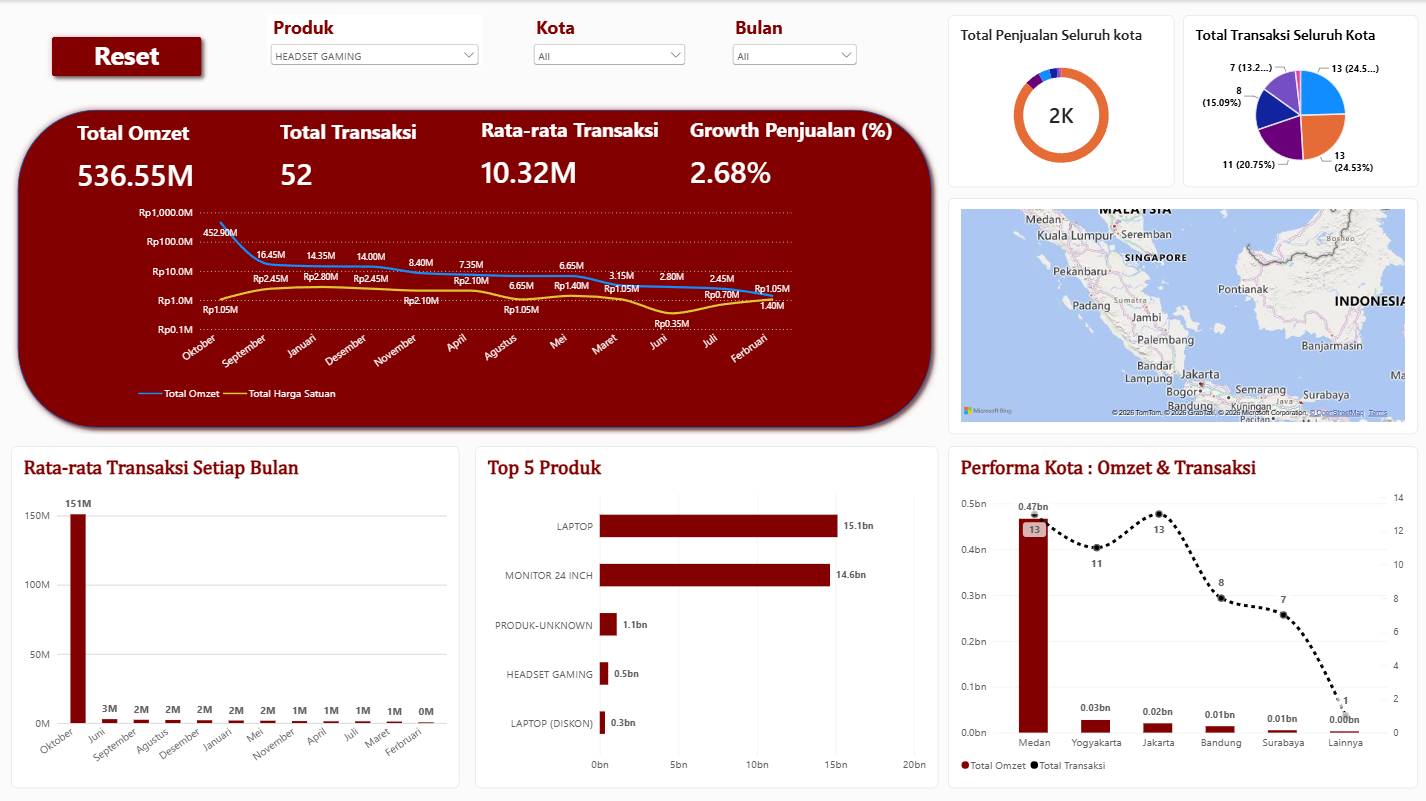

The page's visual inventory and layout, read from the dashboard file:
{"tool":"powerbi","page":{"name":"Duplicate of Duplicate of Page 1","canvas":[1920,1080],"ordinal":0},"visuals":[{"type":"shape","box":[14.6,138.6,1248.9,446.4],"z":0},{"type":"cardVisual","fields":{"Data":["public produksi.Total Omzet"]},"box":[87.5,135.7,300,150],"z":1000},{"type":"lineChart","fields":{"Category":["public produksi.Bulan"],"Y":["public produksi.Total Omzet","public produksi.Total Harga Satuan"]},"box":[170.7,261.2,911.9,299.1],"z":2000},{"type":"slicer","fields":{"Values":["public produksi.Produk"]},"box":[358.9,20.4,290.3,67.1],"z":3000},{"type":"slicer","fields":{"Values":["calendar.Month name"]},"box":[981.9,20.4,176.5,67.1],"z":4000},{"type":"cardVisual","fields":{"Data":["public produksi.Total Transaksi"]},"box":[360.4,134.2,300,150],"z":5000},{"type":"filledMap","fields":{"Category":["public produksi.Kota_Toko"]},"box":[1276.6,267,633.2,318.1],"z":6000},{"type":"slicer","fields":{"Values":["public produksi.Kota_Toko"]},"box":[713.4,20.4,214.5,67.1],"z":7000},{"type":"clusteredColumnChart","title":"Rata-rata Transaksi Setiap Bulan","fields":{"Category":["public produksi.Bulan"],"Y":["public produksi.Rata-rata Transaksi"]},"box":[14.6,601.1,604,461],"z":8000},{"type":"cardVisual","fields":{"Data":["public produksi.Rata-rata Transaksi"]},"box":[631.7,131.3,300,150],"z":9000},{"type":"cardVisual","fields":{"Data":["public produksi.Growth Penjualan (%)"]},"box":[913.3,131.3,319.5,150.3],"z":10000},{"type":"donutChart","fields":{"Category":["public produksi.Kota_Toko"],"Y":["public produksi.Total Quantity"]},"box":[1276.6,20.4,304.9,232],"z":11000},{"type":"clusteredBarChart","title":"Top 5 Produk","fields":{"Category":["public produksi.Produk"],"Y":["public produksi.Total Omzet"]},"box":[639,601.1,624.4,461],"z":12000},{"type":"lineClusteredColumnComboChart","title":"Performa Kota : Omzet & Transaksi","fields":{"Category":["public produksi.Kota_Toko"],"Y":["public produksi.Total Omzet"],"Y2":["public produksi.Total Transaksi"]},"box":[1276.6,601.1,633,461],"z":13000},{"type":"pieChart","title":"Total Transaksi Seluruh Kota","fields":{"Category":["public produksi.Kota_Toko"],"Y":["public produksi.Total Transaksi"]},"box":[1593.2,20.4,316.6,232],"z":14000},{"type":"actionButton","box":[60,40,220,71.4],"z":15000}]}

Visuals, with their boxes in screenshot pixels (x1, y1, x2, y2), scaled from the page's 1920x1080 canvas onto the 1426x801 screenshot:
shape: x1=11, y1=103, x2=938, y2=434
cardVisual - public produksi.Total Omzet: x1=65, y1=101, x2=288, y2=212
lineChart - public produksi.Bulan x public produksi.Total Omzet: x1=127, y1=194, x2=804, y2=416
slicer - public produksi.Produk: x1=267, y1=15, x2=482, y2=65
slicer - calendar.Month name: x1=729, y1=15, x2=860, y2=65
cardVisual - public produksi.Total Transaksi: x1=268, y1=100, x2=490, y2=211
filledMap - public produksi.Kota_Toko: x1=948, y1=198, x2=1418, y2=434
slicer - public produksi.Kota_Toko: x1=530, y1=15, x2=689, y2=65
"Rata-rata Transaksi Setiap Bulan" clusteredColumnChart: x1=11, y1=446, x2=459, y2=788
cardVisual - public produksi.Rata-rata Transaksi: x1=469, y1=97, x2=692, y2=209
cardVisual - public produksi.Growth Penjualan (%): x1=678, y1=97, x2=916, y2=209
donutChart - public produksi.Kota_Toko x public produksi.Total Quantity: x1=948, y1=15, x2=1175, y2=187
"Top 5 Produk" clusteredBarChart: x1=475, y1=446, x2=938, y2=788
"Performa Kota : Omzet & Transaksi" lineClusteredColumnComboChart: x1=948, y1=446, x2=1418, y2=788
"Total Transaksi Seluruh Kota" pieChart: x1=1183, y1=15, x2=1418, y2=187
actionButton: x1=45, y1=30, x2=208, y2=83
